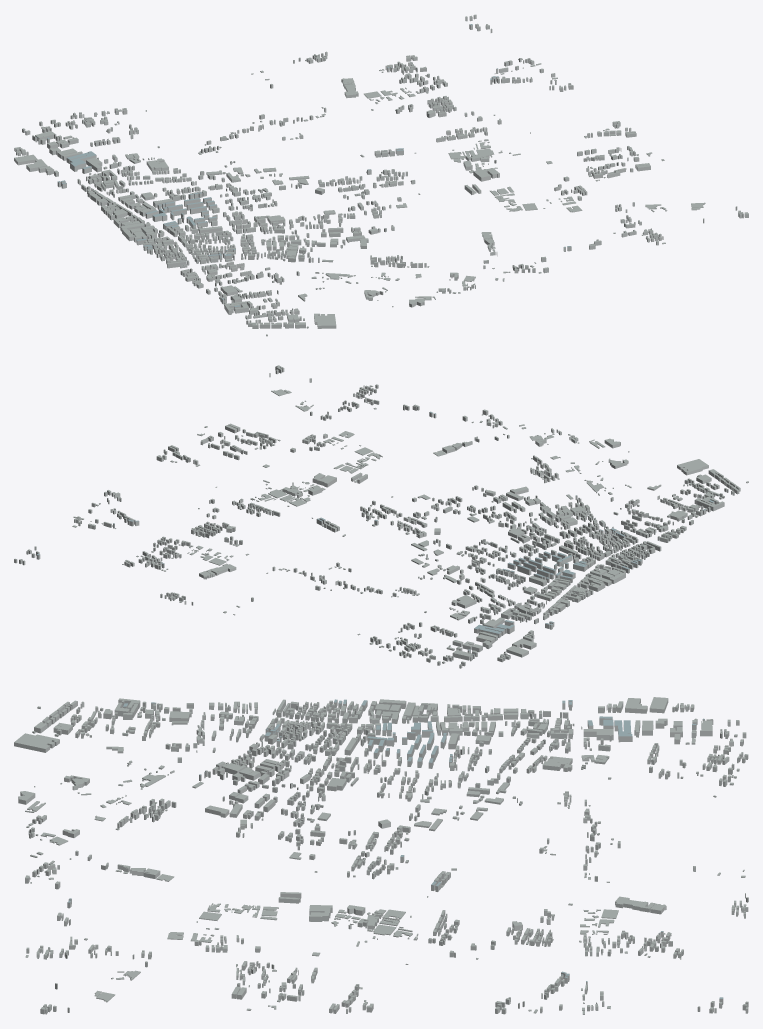
3 views of the same model, one above another, from view 1: azimuth 30°, elevation 25°; view 2: azimuth 150°, elevation 25°; view 3: azimuth 270°, elevation 25° (orthographic). The views are drawn at different scales.
Parts seen in each view (by area): view 1: 上海全域建筑分块 · mapped building neighborhood; view 2: 上海全域建筑分块 · mapped building neighborhood; view 3: 上海全域建筑分块 · mapped building neighborhood.
Part boxes in pixels (box(x1,y1,x2,y2)): 上海全域建筑分块 · mapped building neighborhood: box(14, 14, 748, 336); 上海全域建筑分块 · mapped building neighborhood: box(14, 365, 748, 668); 上海全域建筑分块 · mapped building neighborhood: box(14, 697, 748, 1014).
Bounding box in the file's own units: 2145 × 23.96 × 2123.
